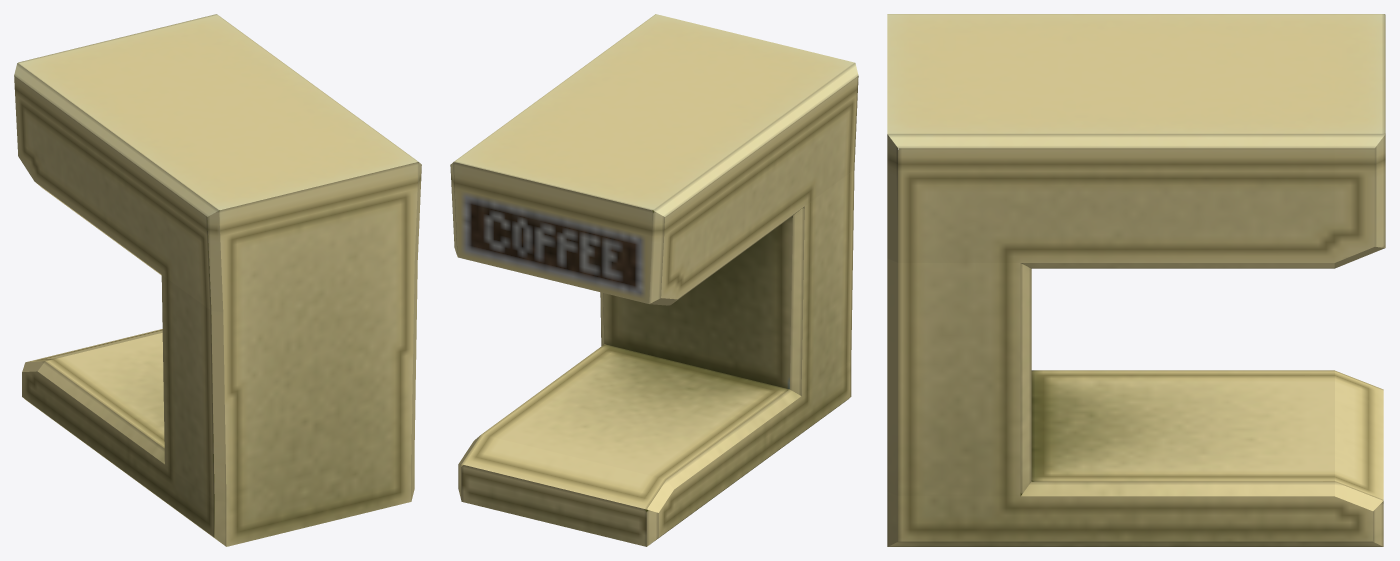
Rendered from CoffeeMachine.obj.
3 renders of one model, left to right at view 1: azimuth 30°, elevation 25°; view 2: azimuth 150°, elevation 25°; view 3: azimuth 270°, elevation 25°, orthographic. The views are drawn at different scales.
Visible parts, largest first — view 1: CoffeeMachine; view 2: CoffeeMachine; view 3: CoffeeMachine.
Part boxes in pixels (x1,y1,x2,y2): CoffeeMachine: (14,14,421,546); CoffeeMachine: (450,14,858,546); CoffeeMachine: (887,14,1385,546).
Bounding box in the file's own units: 0.5967 × 0.8992 × 0.9729.
Materials: 1 (1 with a texture image).
